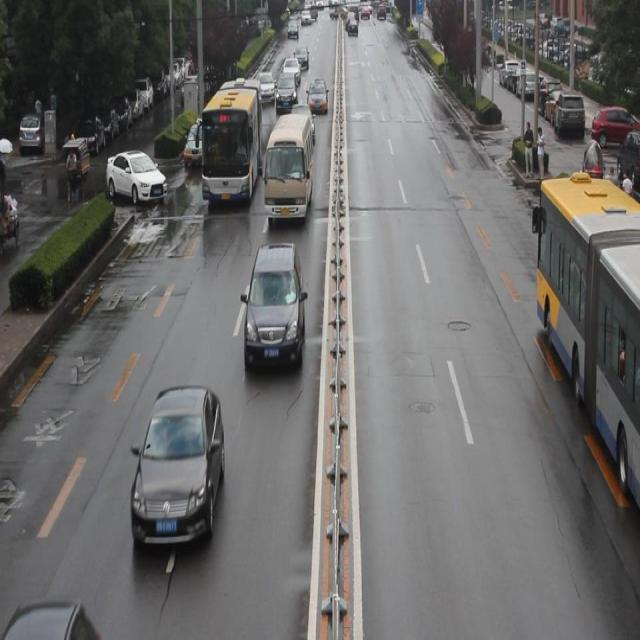car: (131, 386, 220, 550), (243, 241, 304, 372), (106, 151, 168, 206), (183, 125, 216, 175)
truck: (264, 112, 312, 227)
van: (531, 183, 640, 519), (201, 80, 262, 207)
